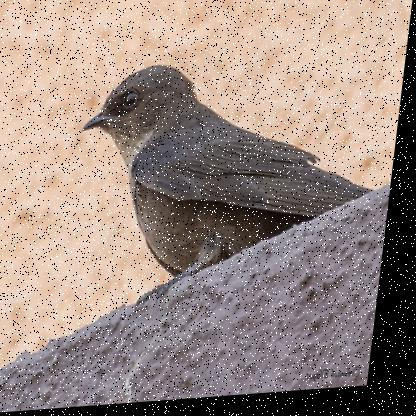Burung: (71, 53, 393, 289)
